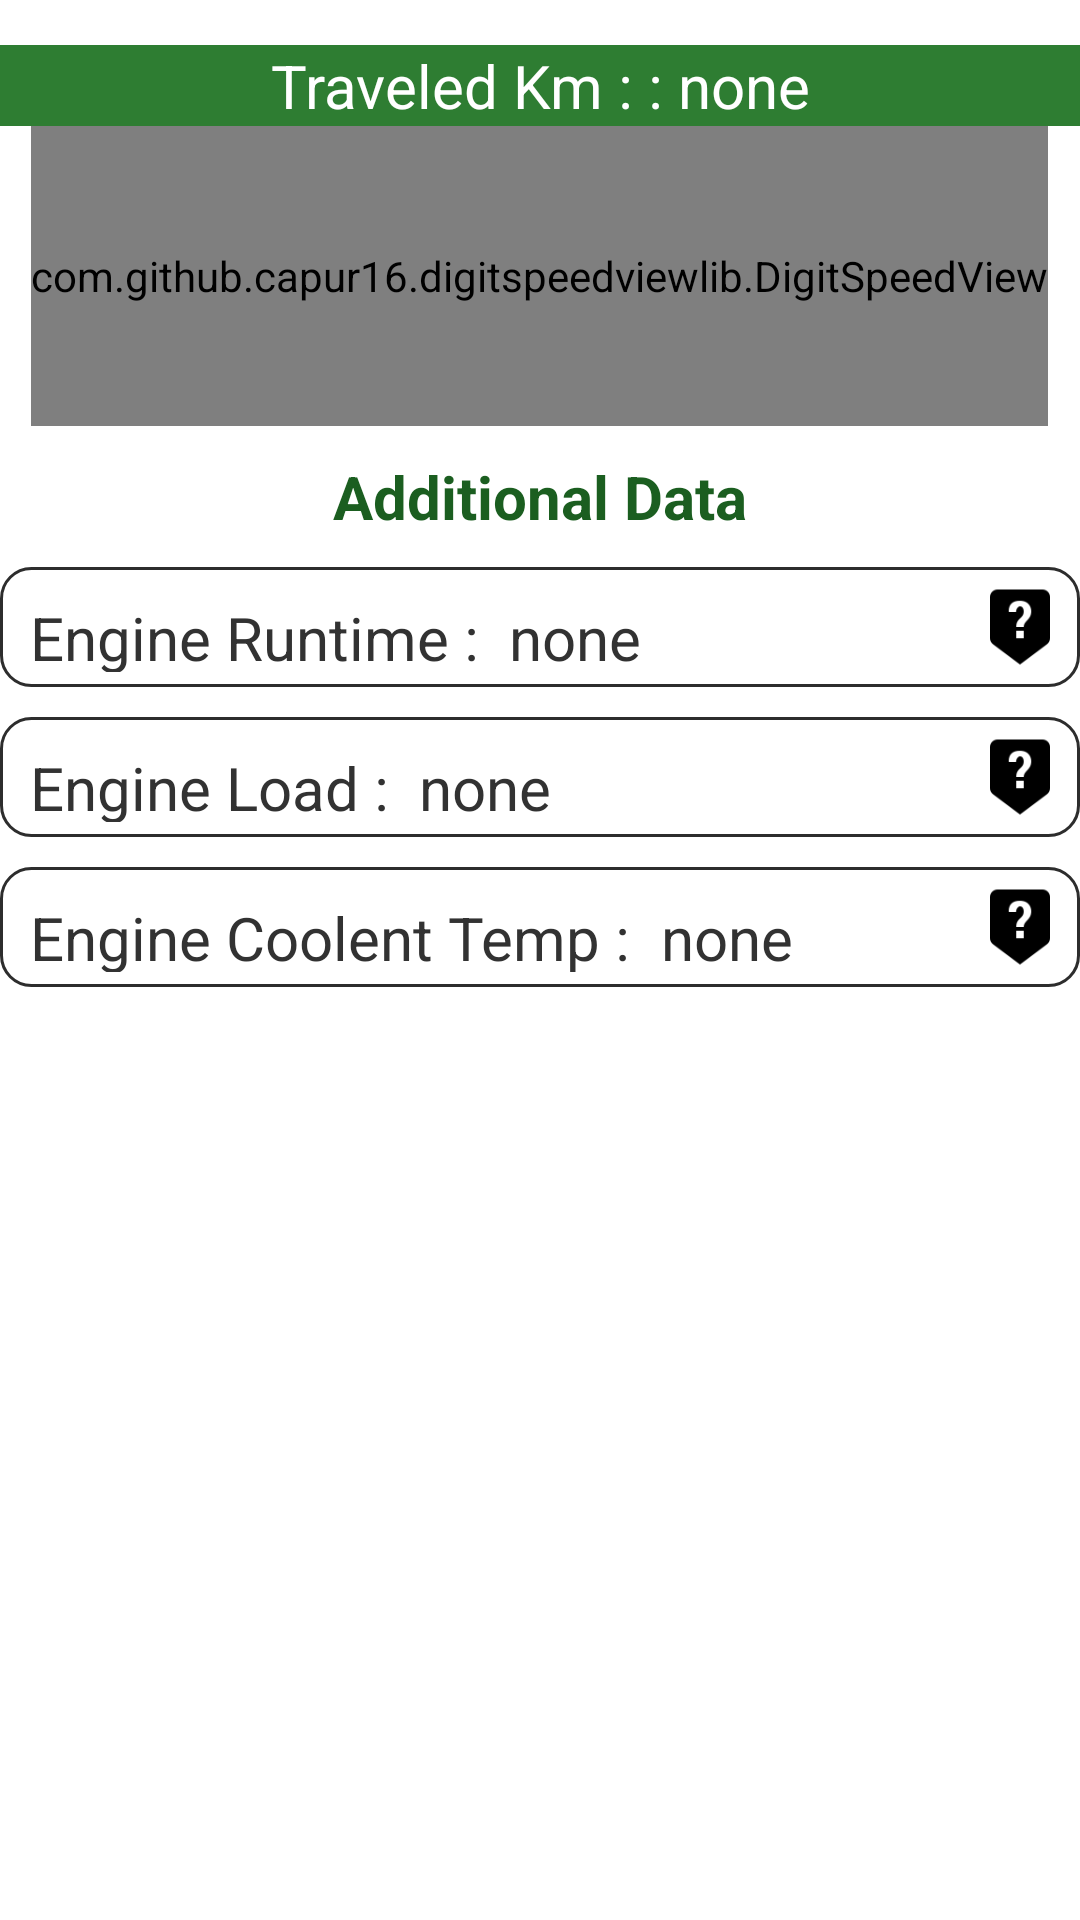

Icon click points for this 1080 × 1920 phone screenshot, format (x=x, y=y):
questionmark: (x=1020, y=627), (x=1020, y=777), (x=1020, y=927)
